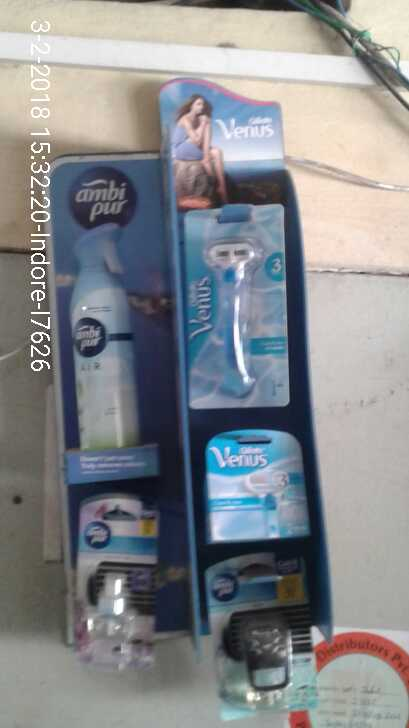beauty: (180, 212, 292, 409), (203, 433, 332, 545)
home: (197, 556, 330, 719), (67, 223, 144, 460), (66, 507, 159, 674)
